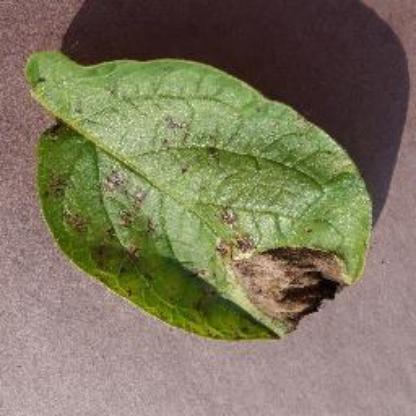Late-Blight: (25, 45, 375, 351)
